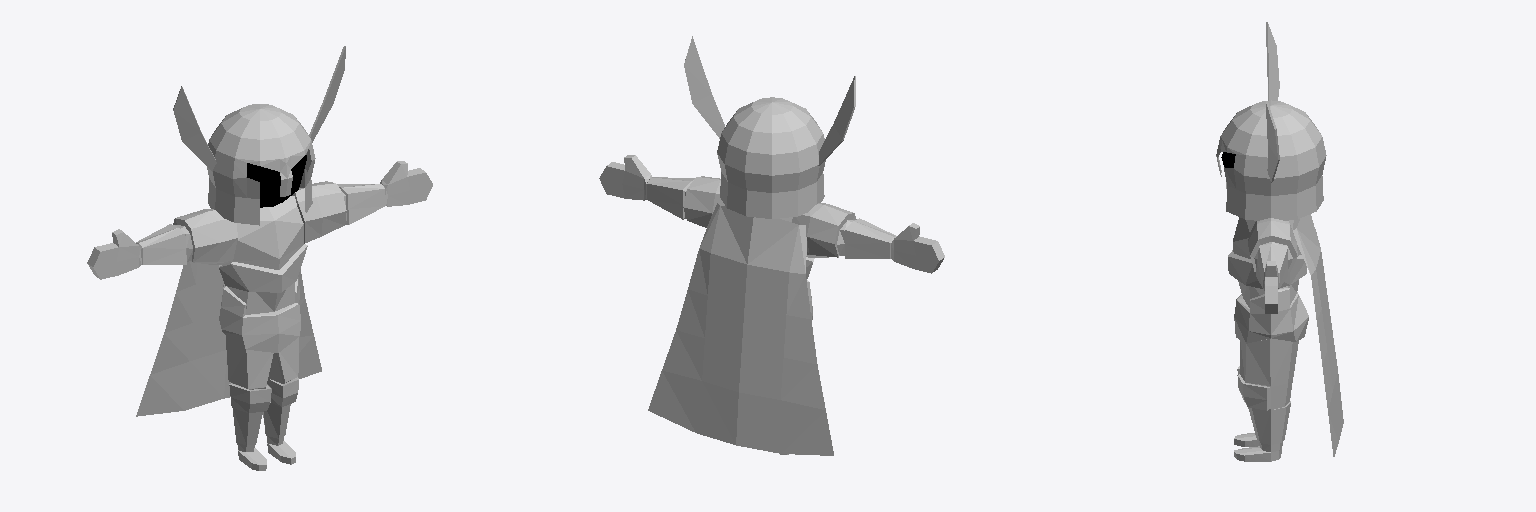
Rendered from Paladin.obj.
The picture shows the model from 3 angles: view 1: azimuth 30°, elevation 25°; view 2: azimuth 150°, elevation 25°; view 3: azimuth 270°, elevation 25°; orthographic projection.
Parts seen in each view (by area): view 1: Paladin_Cube.001, Helmet_Paladin_Cube.002, Cloack_Paladin_Cube.003; view 2: Cloack_Paladin_Cube.003, Helmet_Paladin_Cube.002, Paladin_Cube.001; view 3: Paladin_Cube.001, Helmet_Paladin_Cube.002, Cloack_Paladin_Cube.003.
Part boxes in pixels (bbox=[...]): Paladin_Cube.001: bbox=[87, 155, 432, 470]; Helmet_Paladin_Cube.002: bbox=[173, 46, 345, 225]; Cloack_Paladin_Cube.003: bbox=[136, 262, 321, 416]; Cloack_Paladin_Cube.003: bbox=[648, 203, 833, 455]; Helmet_Paladin_Cube.002: bbox=[684, 36, 855, 218]; Paladin_Cube.001: bbox=[599, 155, 944, 454]; Paladin_Cube.001: bbox=[1221, 152, 1308, 461]; Helmet_Paladin_Cube.002: bbox=[1216, 22, 1326, 220]; Cloack_Paladin_Cube.003: bbox=[1293, 214, 1343, 456].
Size of the model in its own units: 13.12 by 14.39 by 4.27.